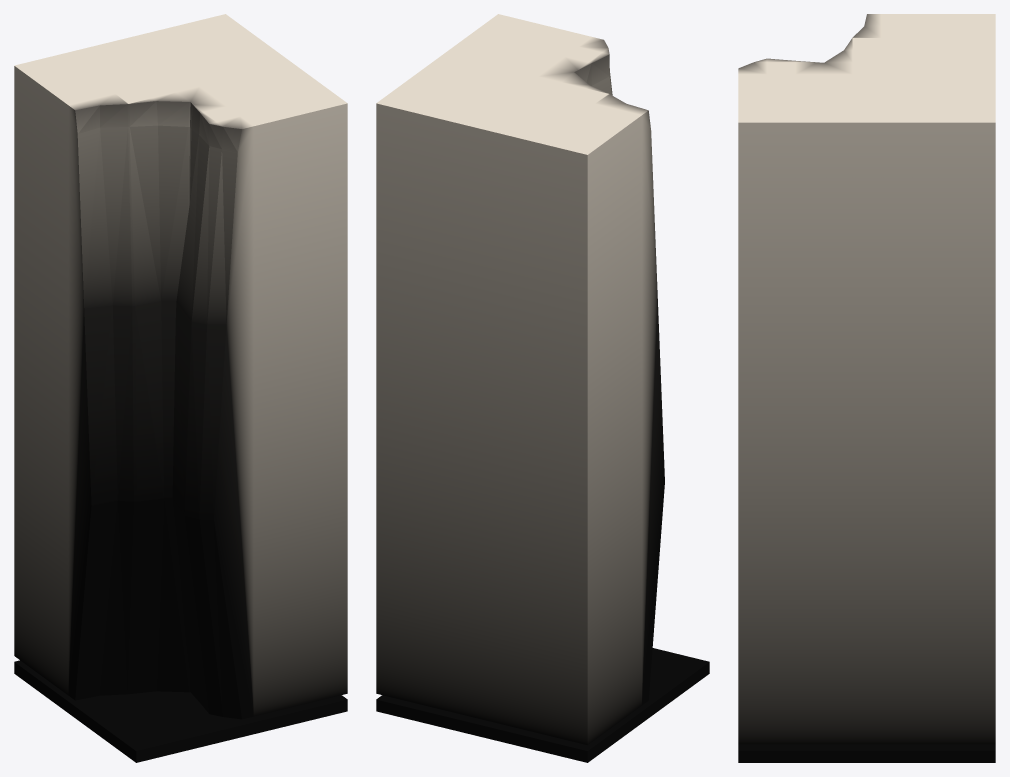
The model's file is SM_VKI_Ground_Cave_XOOO_Q10.fbx.
The picture shows the model from 3 angles, left to right: view 1: azimuth 30°, elevation 25°; view 2: azimuth 150°, elevation 25°; view 3: azimuth 270°, elevation 25°; orthographic projection. The views are drawn at different scales.
Parts seen in each view (by area): view 1: SM_VKI_Ground_Cave_XOOO_Q10.001; view 2: SM_VKI_Ground_Cave_XOOO_Q10.001; view 3: SM_VKI_Ground_Cave_XOOO_Q10.001.
Part boxes in pixels (left/top/right/bottom): SM_VKI_Ground_Cave_XOOO_Q10.001: left=14, top=14, right=347, bottom=762; SM_VKI_Ground_Cave_XOOO_Q10.001: left=376, top=14, right=709, bottom=762; SM_VKI_Ground_Cave_XOOO_Q10.001: left=738, top=14, right=995, bottom=762.
Size of the model in its own units: 1.5 by 4.12 by 1.5.
